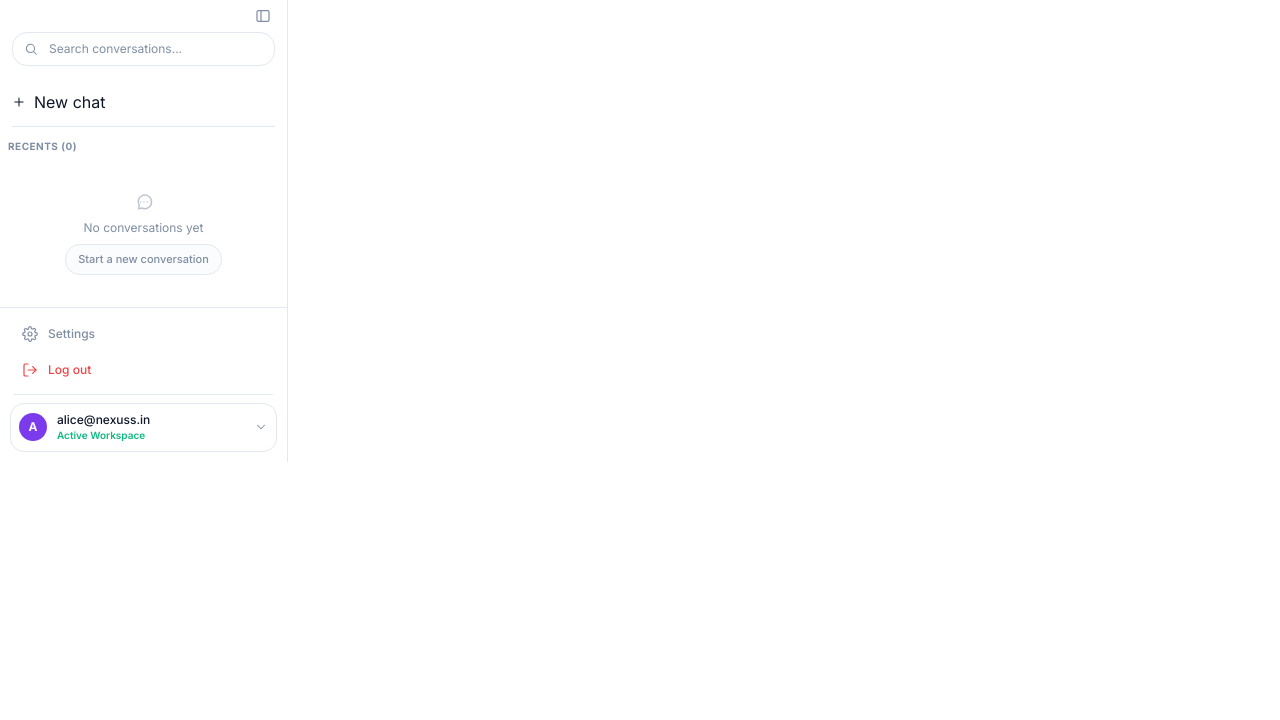
Sidebar footer actions › opens the existing Settings modal when Settings is clicked
The image size is (1280, 720).
What coordinates should you click on to do the following:
click the button "Settings"
I would click on:
 (72, 333)
Its box is [10, 318, 277, 350].
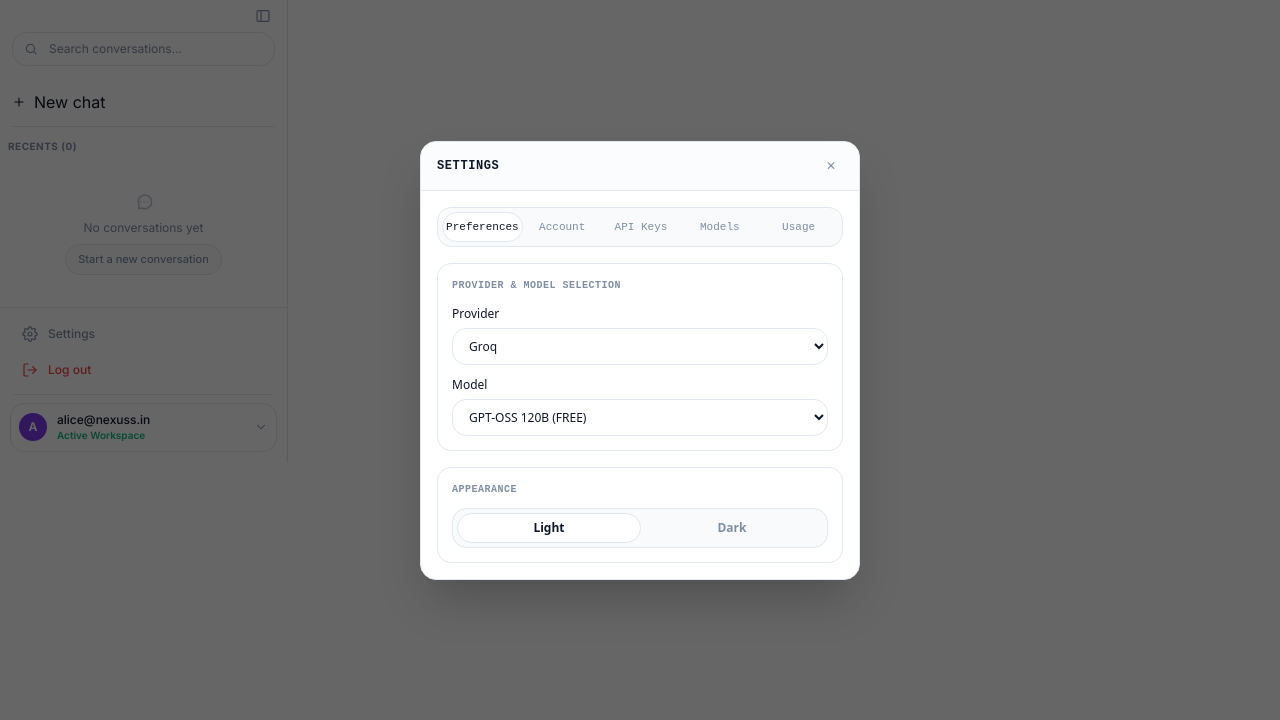
Check: the text "SETTINGS" is shown, box [437, 158, 499, 174]
